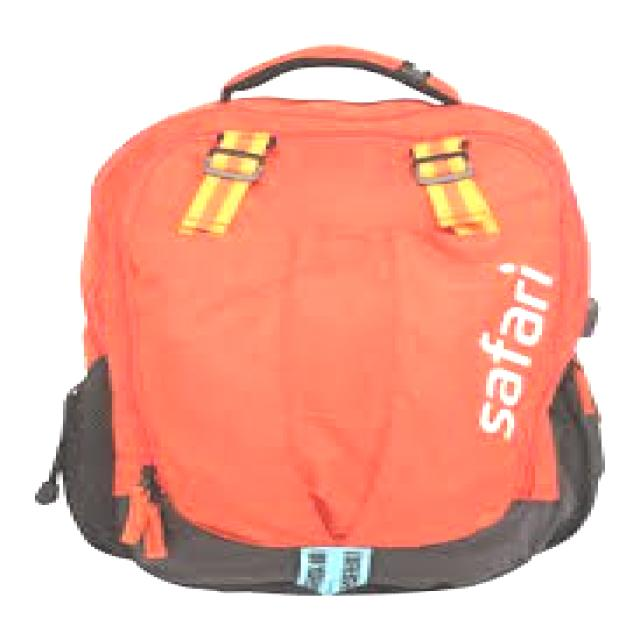backpack: (33, 43, 607, 597)
